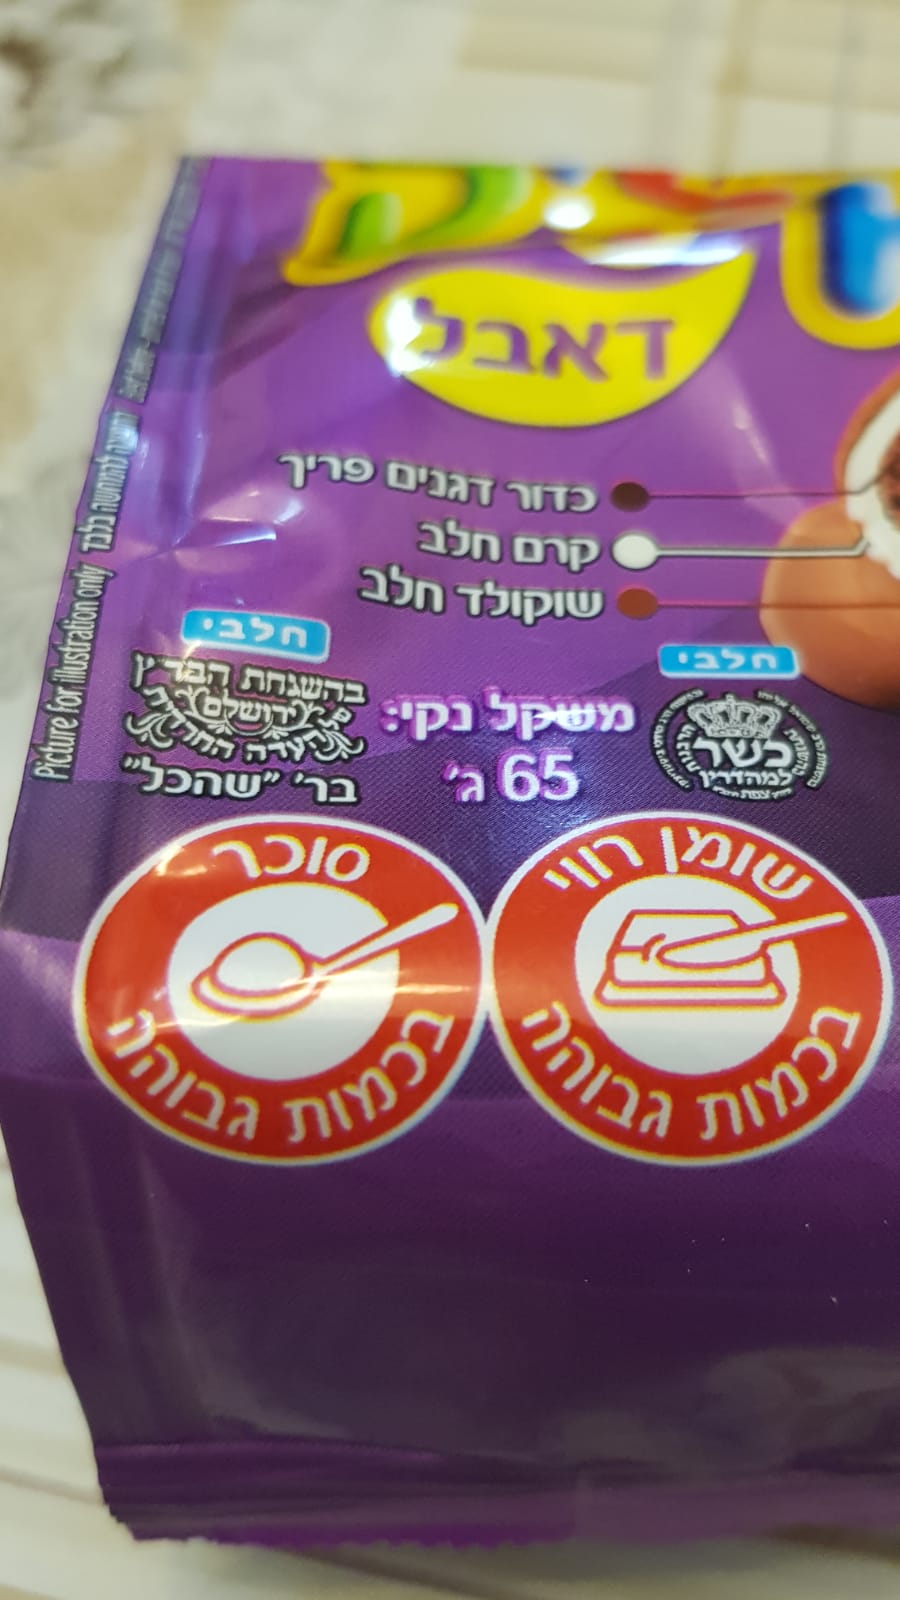fat: (484, 811, 896, 1173)
sugar: (74, 816, 489, 1175)
